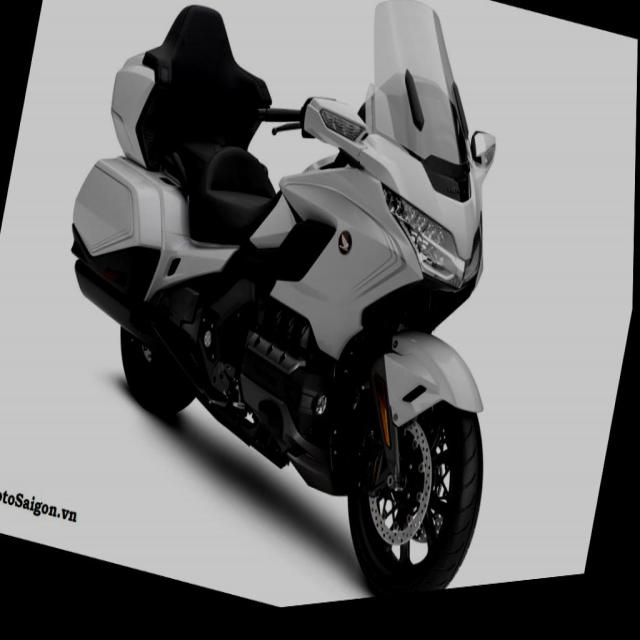Gold Wing: (17, 0, 571, 636)
